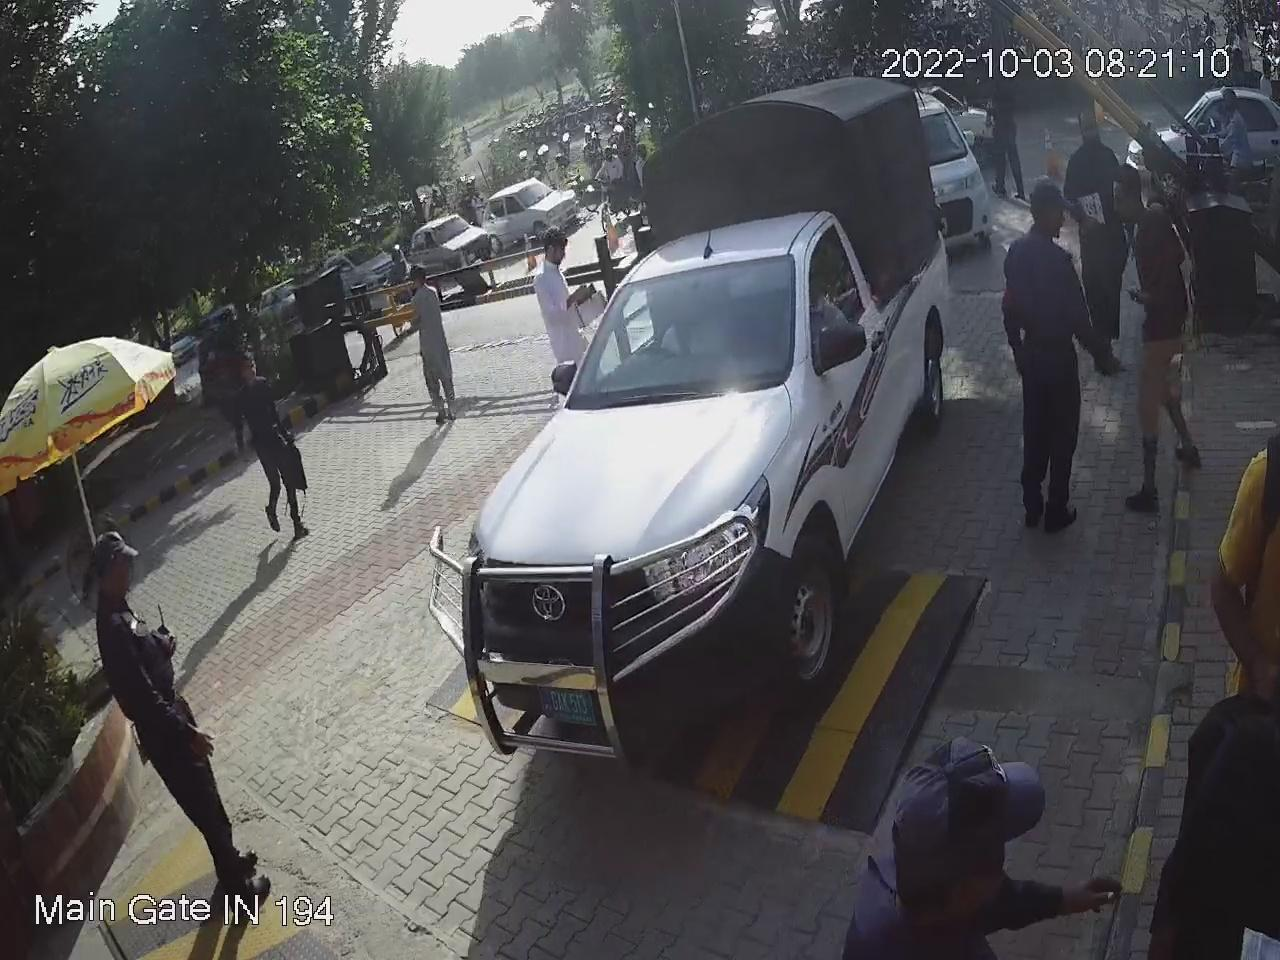windshield: (560, 242, 798, 412)
